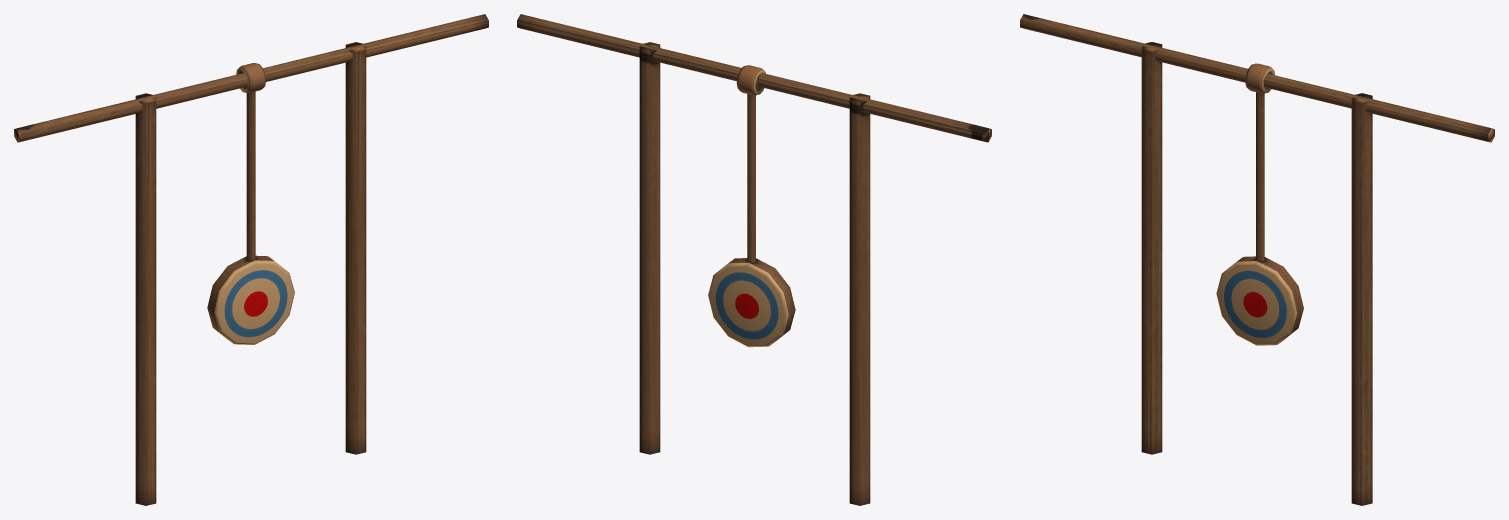
Rendered from Pendulam.fbx.
3 renders of one model, left to right at view 1: azimuth 30°, elevation 25°; view 2: azimuth 150°, elevation 25°; view 3: azimuth 330°, elevation 25°, orthographic.
Parts seen in each view (by area): view 1: polySurface156, polySurface154, polySurface155, polySurface158, polySurface157, polySurface159; view 2: polySurface156, polySurface154, polySurface155, polySurface158, polySurface157, polySurface159; view 3: polySurface154, polySurface156, polySurface155, polySurface158, polySurface157, polySurface159.
Boxes of the visible parts, box(x1,y1,x2,y2) form: polySurface156: box(135, 93, 156, 505); polySurface154: box(345, 42, 366, 454); polySurface155: box(14, 14, 488, 142); polySurface158: box(207, 255, 294, 344); polySurface157: box(246, 91, 255, 260); polySurface159: box(236, 63, 265, 92); polySurface156: box(849, 93, 870, 505); polySurface154: box(639, 42, 660, 454); polySurface155: box(517, 14, 991, 142); polySurface158: box(708, 258, 795, 347); polySurface157: box(747, 94, 755, 262); polySurface159: box(736, 65, 765, 95); polySurface154: box(1351, 93, 1372, 505); polySurface156: box(1141, 42, 1162, 454); polySurface155: box(1020, 14, 1494, 142); polySurface158: box(1216, 256, 1303, 345); polySurface157: box(1256, 92, 1264, 261); polySurface159: box(1245, 63, 1274, 93).
Bounding box in the file's own units: 107 × 89.36 × 5.62.
